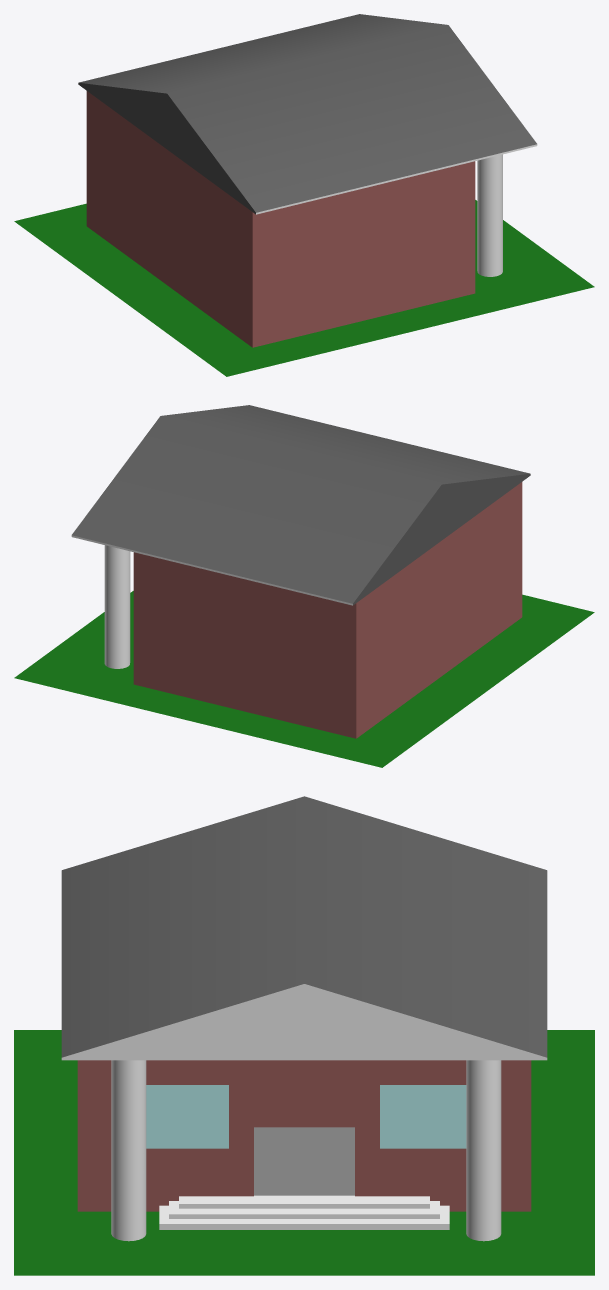
The model's file is Library.fbx.
3 renders of one model, top to bottom at view 1: azimuth 30°, elevation 25°; view 2: azimuth 150°, elevation 25°; view 3: azimuth 270°, elevation 25°, orthographic. The views are drawn at different scales.
Visible parts, largest first — view 1: pPlane2; view 2: pPlane2; view 3: pPlane2.
Boxes of the visible parts, x1,y1,x2,y2 form: pPlane2: [14, 14, 594, 376]; pPlane2: [14, 405, 594, 767]; pPlane2: [14, 796, 594, 1275].
Size of the model in its own units: 2 by 1.02 by 2.
